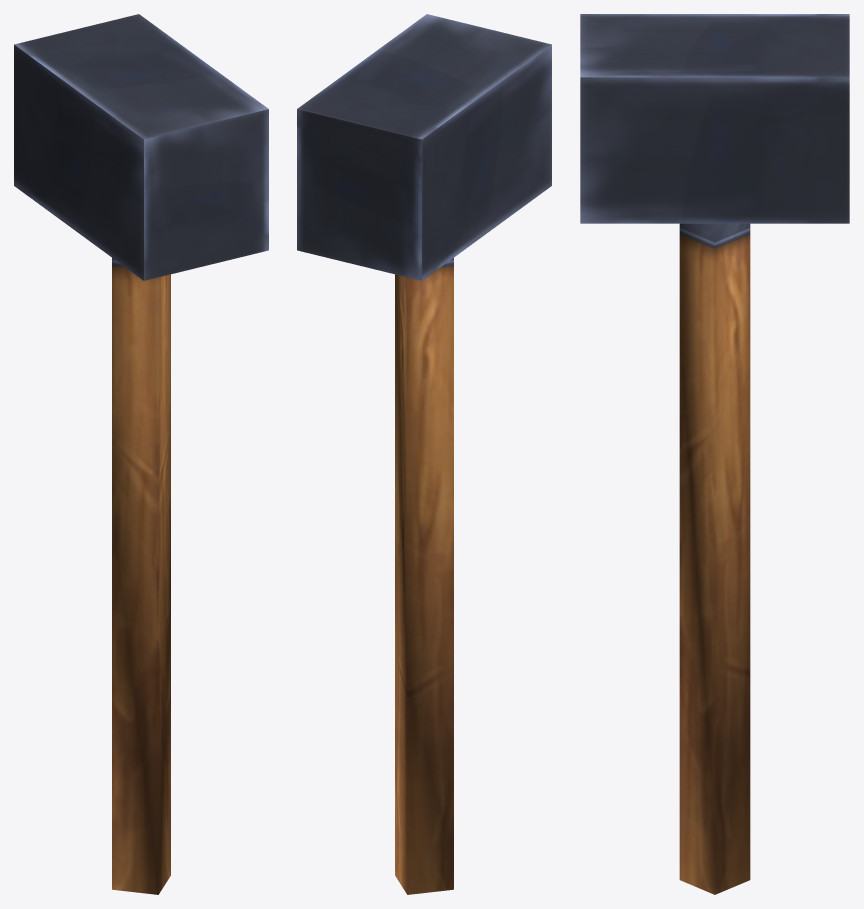
File: Sledgehammer.FBX
3 renders of one model, left to right at view 1: azimuth 30°, elevation 25°; view 2: azimuth 150°, elevation 25°; view 3: azimuth 270°, elevation 25°, orthographic. The views are drawn at different scales.
Visible parts, largest first — view 1: Sledgehammer; view 2: Sledgehammer; view 3: Sledgehammer.
Part boxes in pixels (left/top/right/bottom): Sledgehammer: left=14, top=14, right=268, bottom=894; Sledgehammer: left=297, top=14, right=551, bottom=894; Sledgehammer: left=580, top=14, right=849, bottom=894.
Bounding box in the file's own units: 0.12 × 0.7387 × 0.2159.
